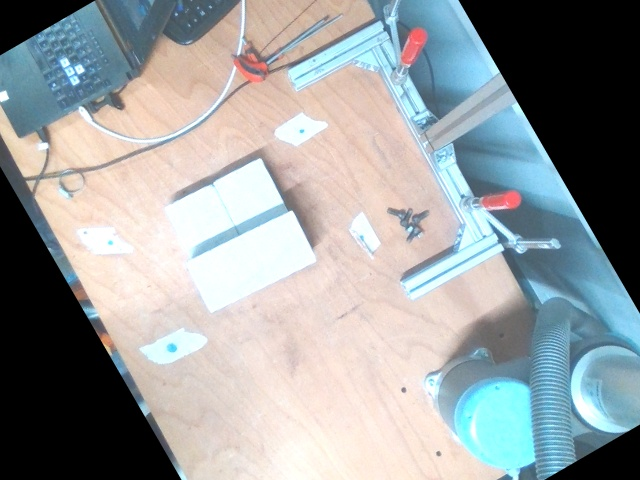brick: (186, 209, 314, 312)
